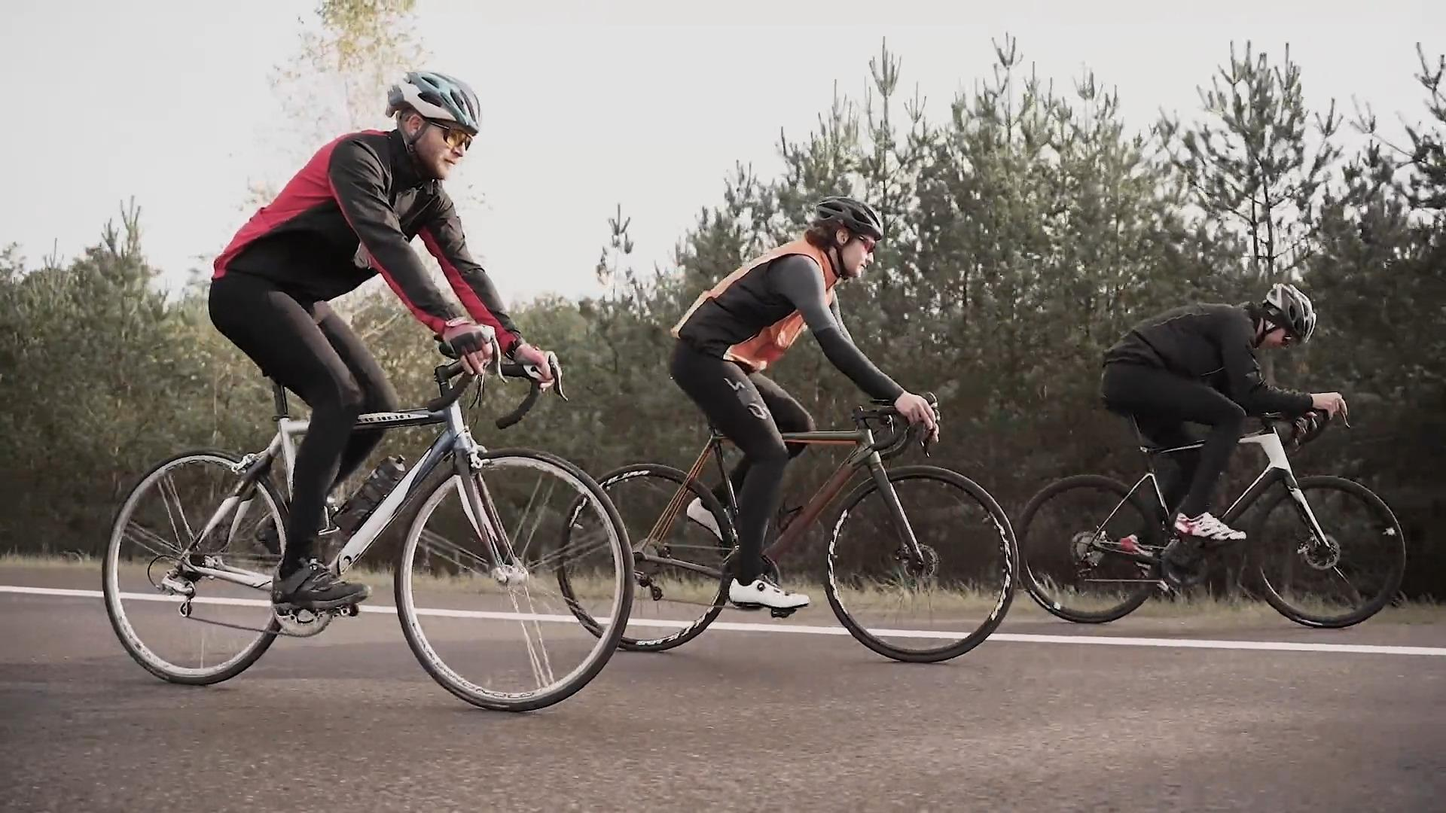bicyclist: (102, 69, 636, 713), (558, 196, 1020, 663), (1019, 283, 1407, 629)
helmet: (384, 70, 480, 183), (805, 196, 882, 280), (1254, 282, 1317, 350)
